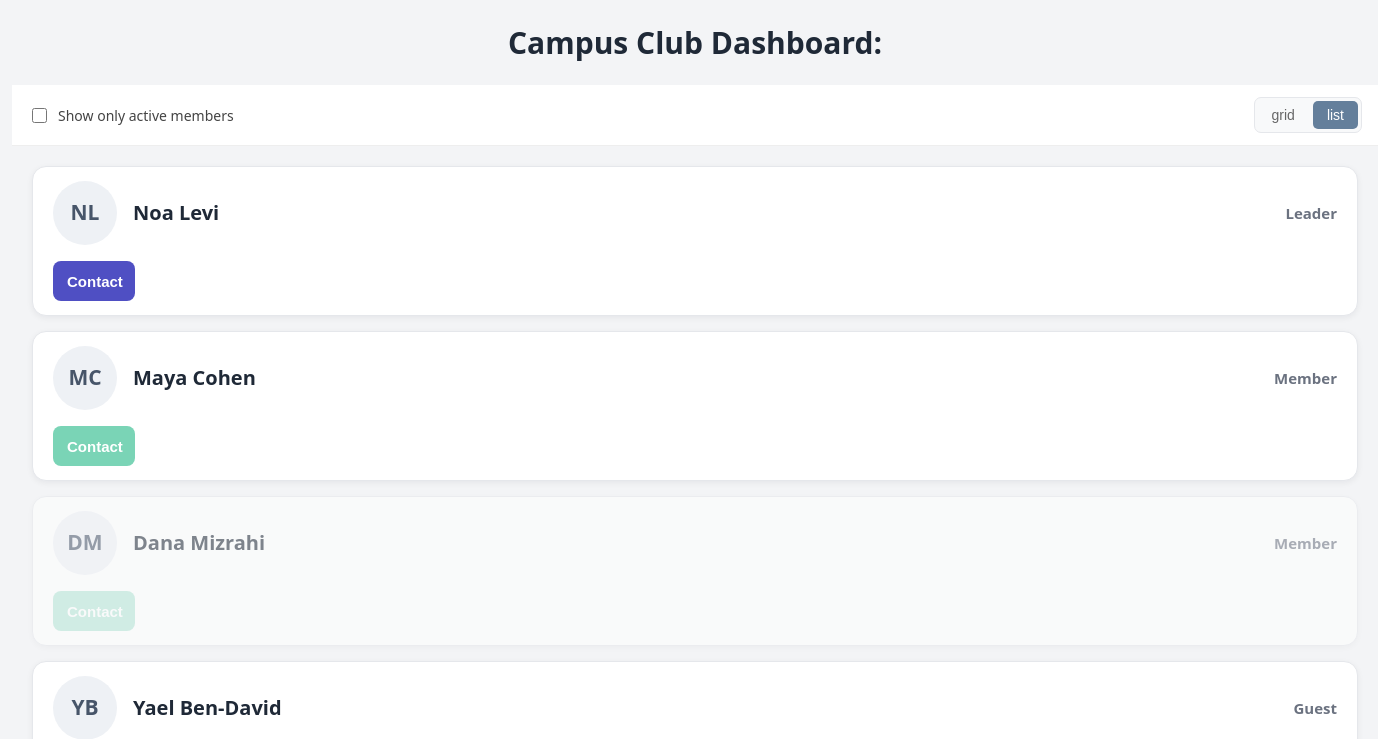
Test: App (tasks state): a task stays done after switching to another member and back
The width and height of the screenshot is (1378, 739).
Click the heading "Noa Levi" at (176, 213), box [133,199,219,226]
(page scrolled)
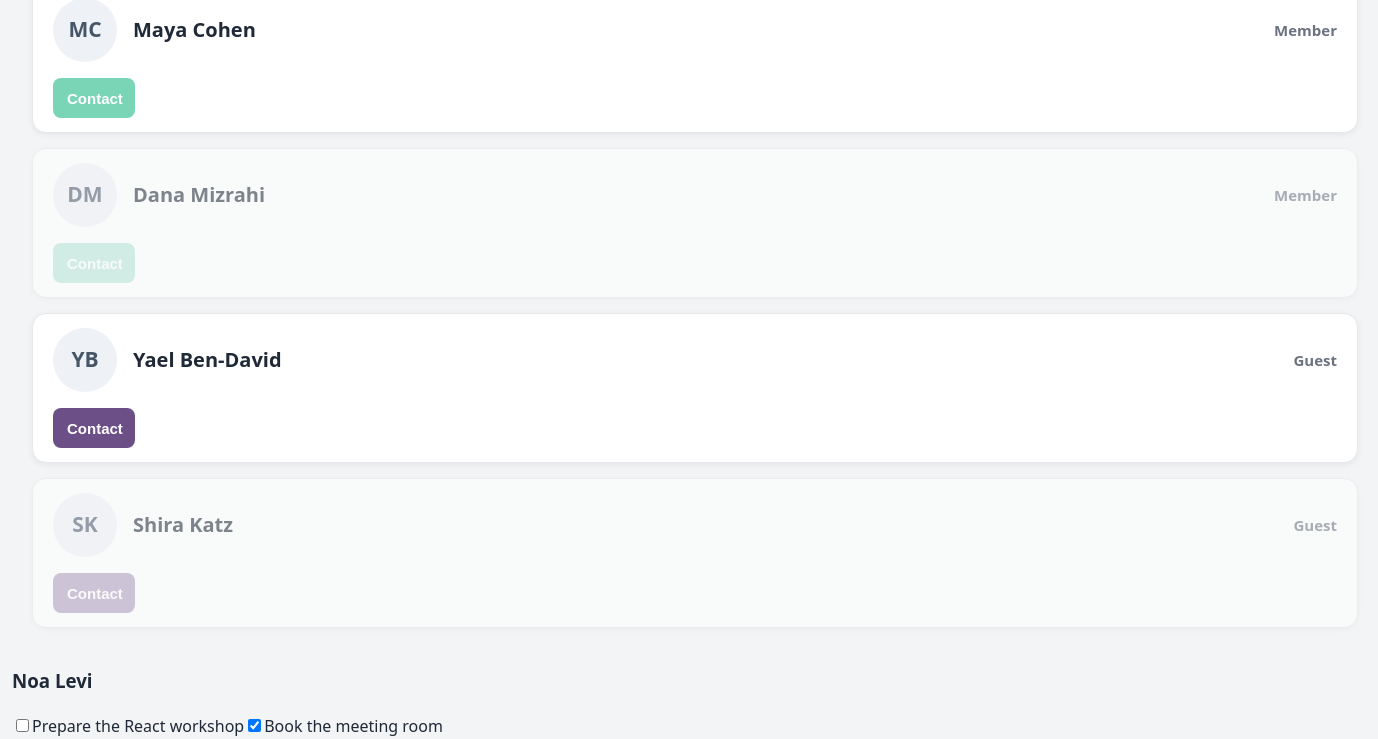
Now the checkbox labelled "Prepare the React workshop" is shown
Click the checkbox labelled "Prepare the React workshop" at (22, 725), box [16,719,29,732]
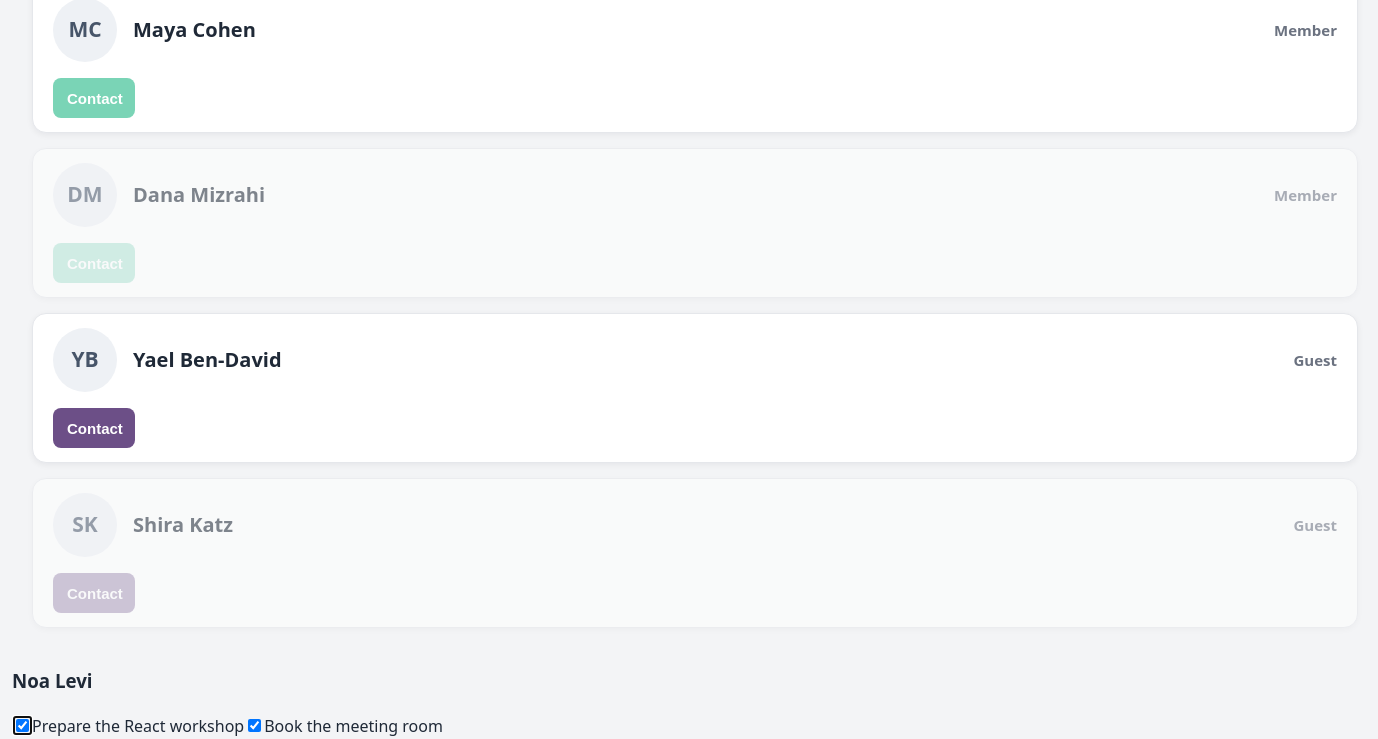
Click the heading "Maya Cohen" at (194, 30), box [133,16,256,43]
(page scrolled)
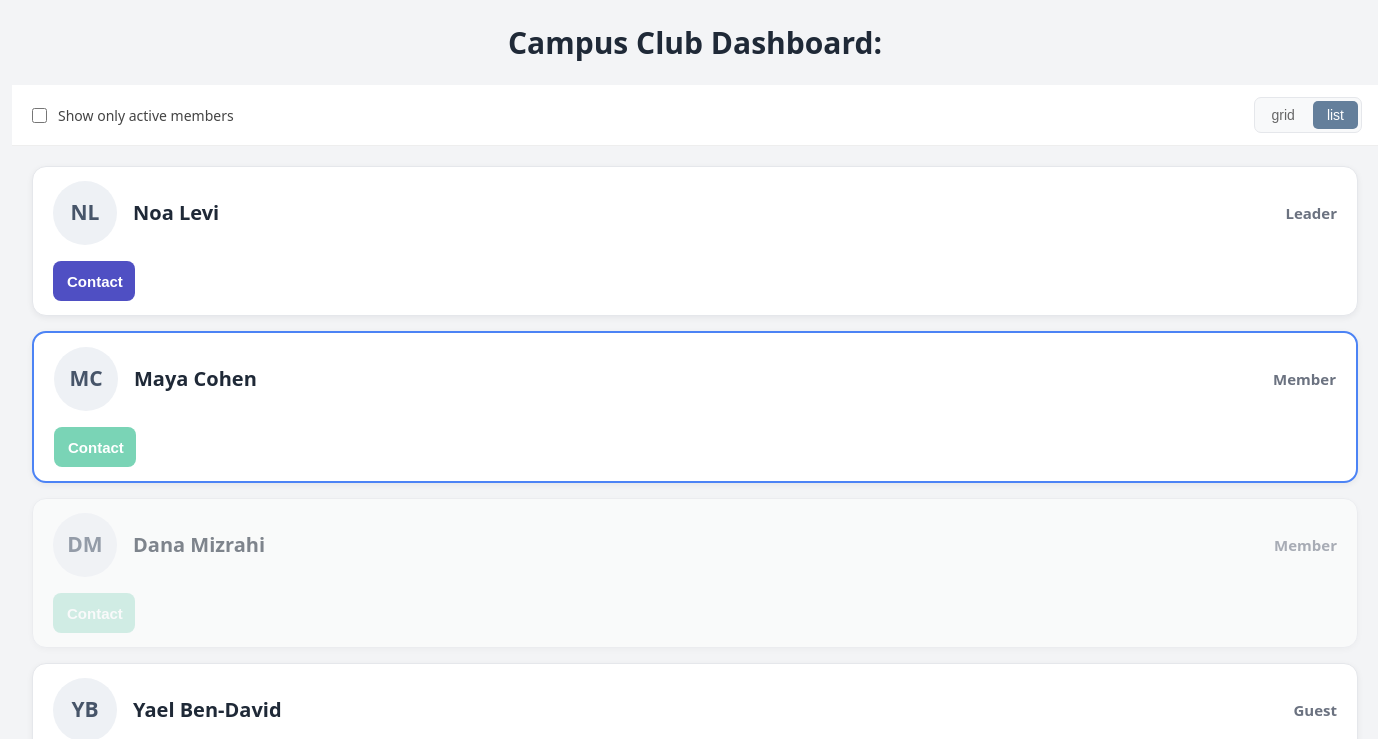
Click the heading "Noa Levi" at (176, 213), box [133,199,219,226]
(page scrolled)
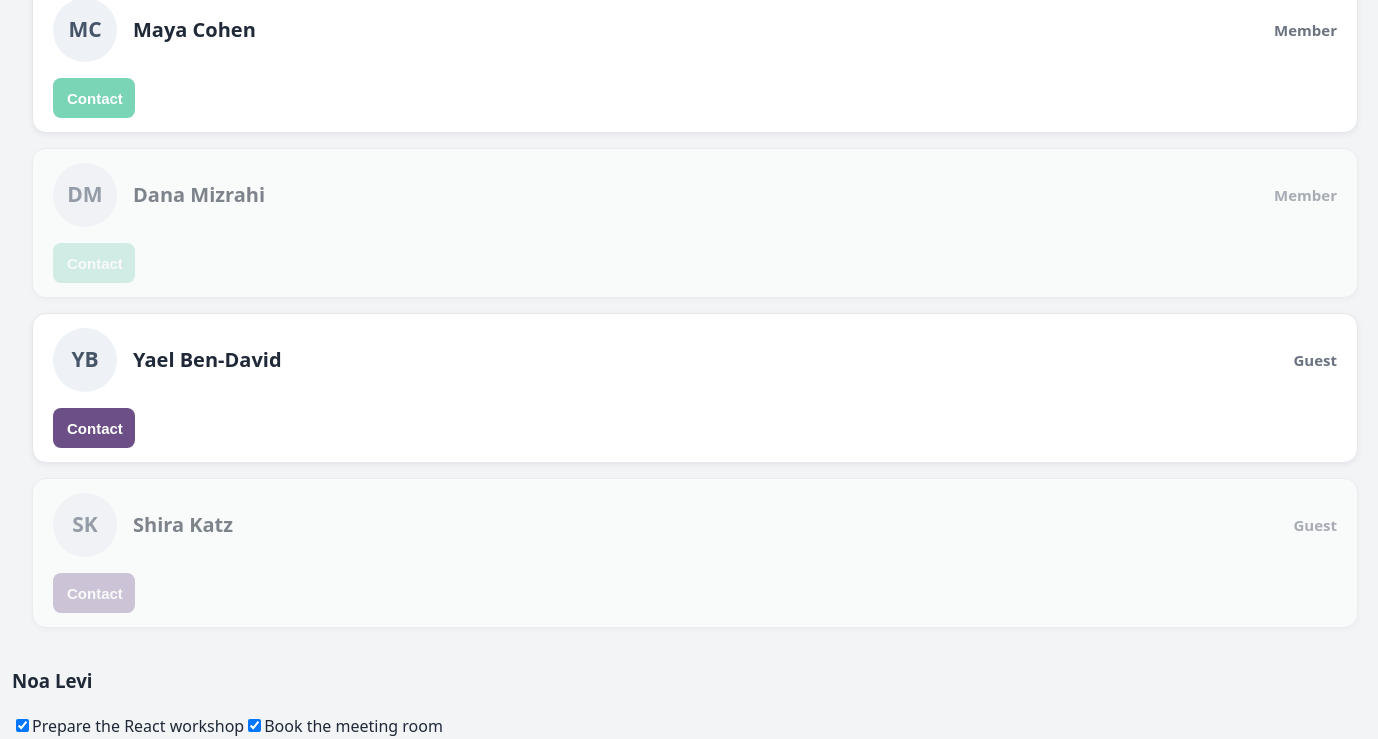
Now the checkbox labelled "Prepare the React workshop" is checked, box [16,719,29,732]
